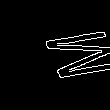M_W: (7, 26, 103, 84)
